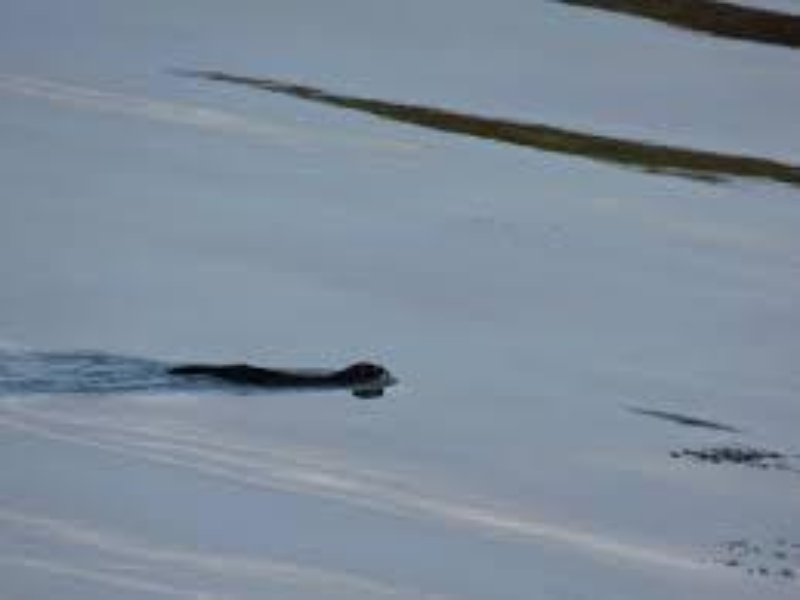minkish: (166, 360, 391, 388)
